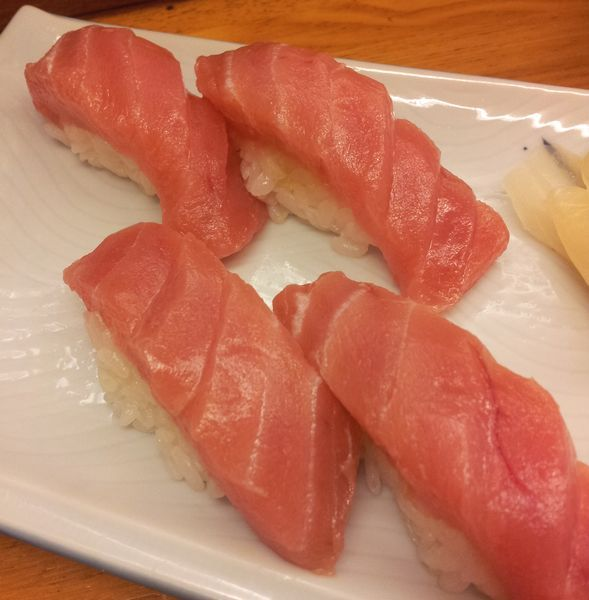medium_fatty_tuna: (52, 219, 356, 581), (276, 270, 589, 595), (202, 38, 512, 309), (19, 24, 270, 269)
